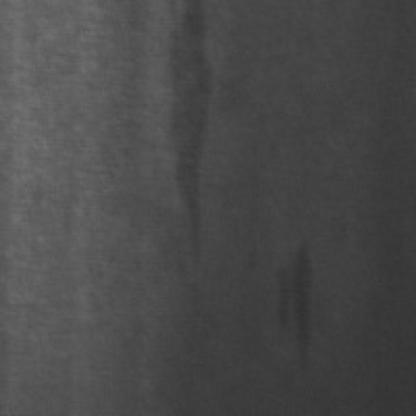inclusion: (153, 0, 222, 266), (262, 225, 324, 372)
